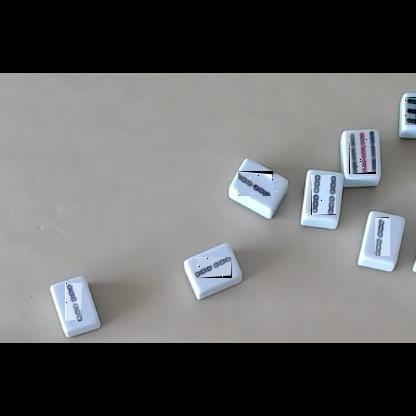2s: (239, 171, 278, 196), (196, 257, 232, 278), (376, 217, 394, 256), (65, 283, 82, 321)
4s: (311, 175, 336, 215)
7s: (405, 97, 416, 125)
9s: (349, 131, 376, 174)
